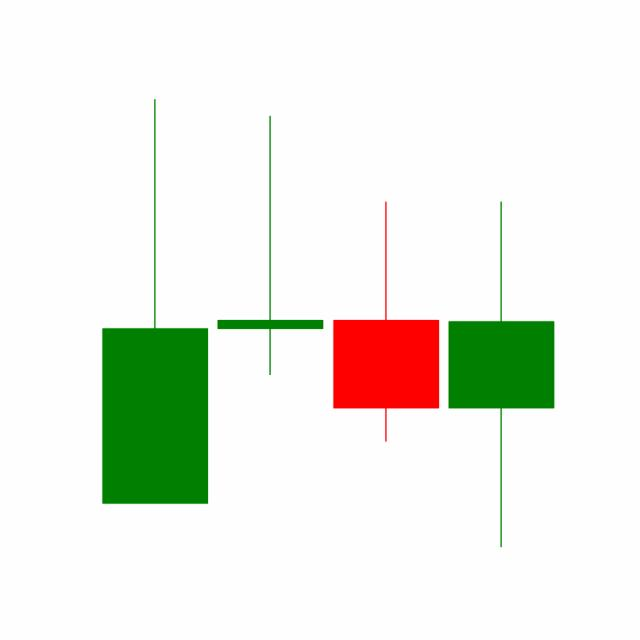Spinning Top: (443, 197, 559, 550)
